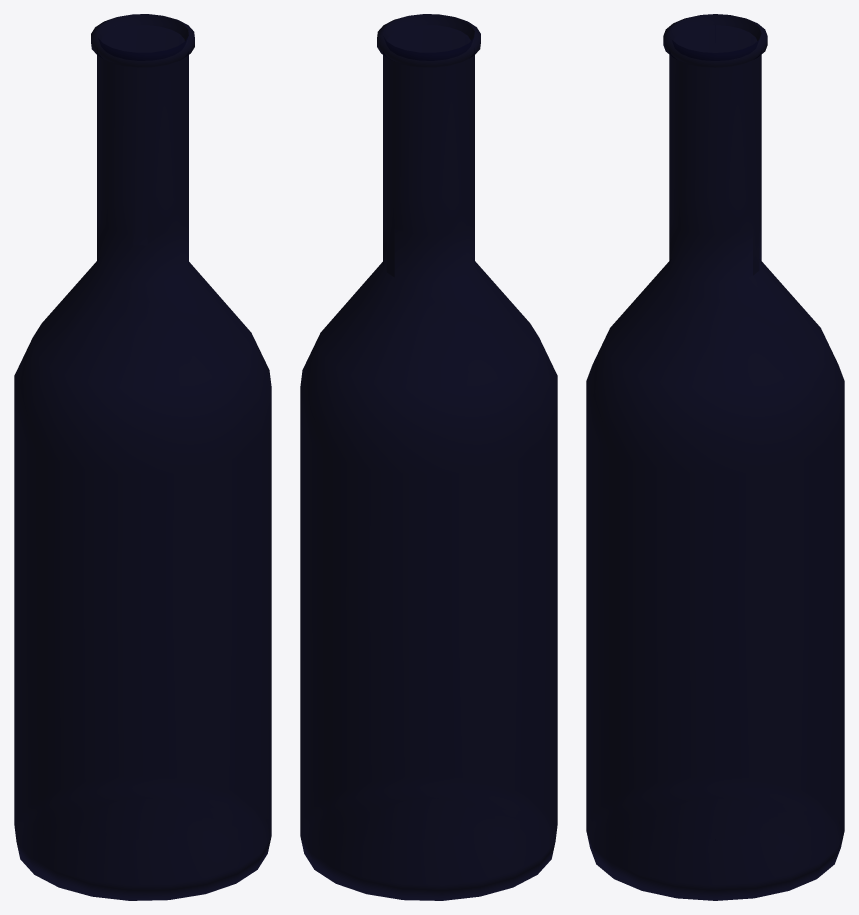
Rendered from Flasche_Blau.fbx.
3 renders of one model, left to right at view 1: azimuth 30°, elevation 25°; view 2: azimuth 150°, elevation 25°; view 3: azimuth 270°, elevation 25°, orthographic.
Parts seen in each view (by area): view 1: pCylinder9; view 2: pCylinder9; view 3: pCylinder9.
Part boxes in pixels (x1,y1,x2,y2): pCylinder9: (14, 14, 271, 900); pCylinder9: (300, 14, 557, 900); pCylinder9: (586, 14, 844, 900).
Size of the model in its own units: 20.65 by 71.78 by 20.65.
